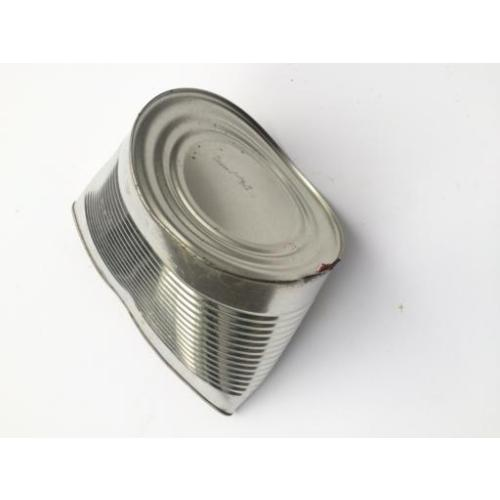metal: (74, 89, 344, 409)
